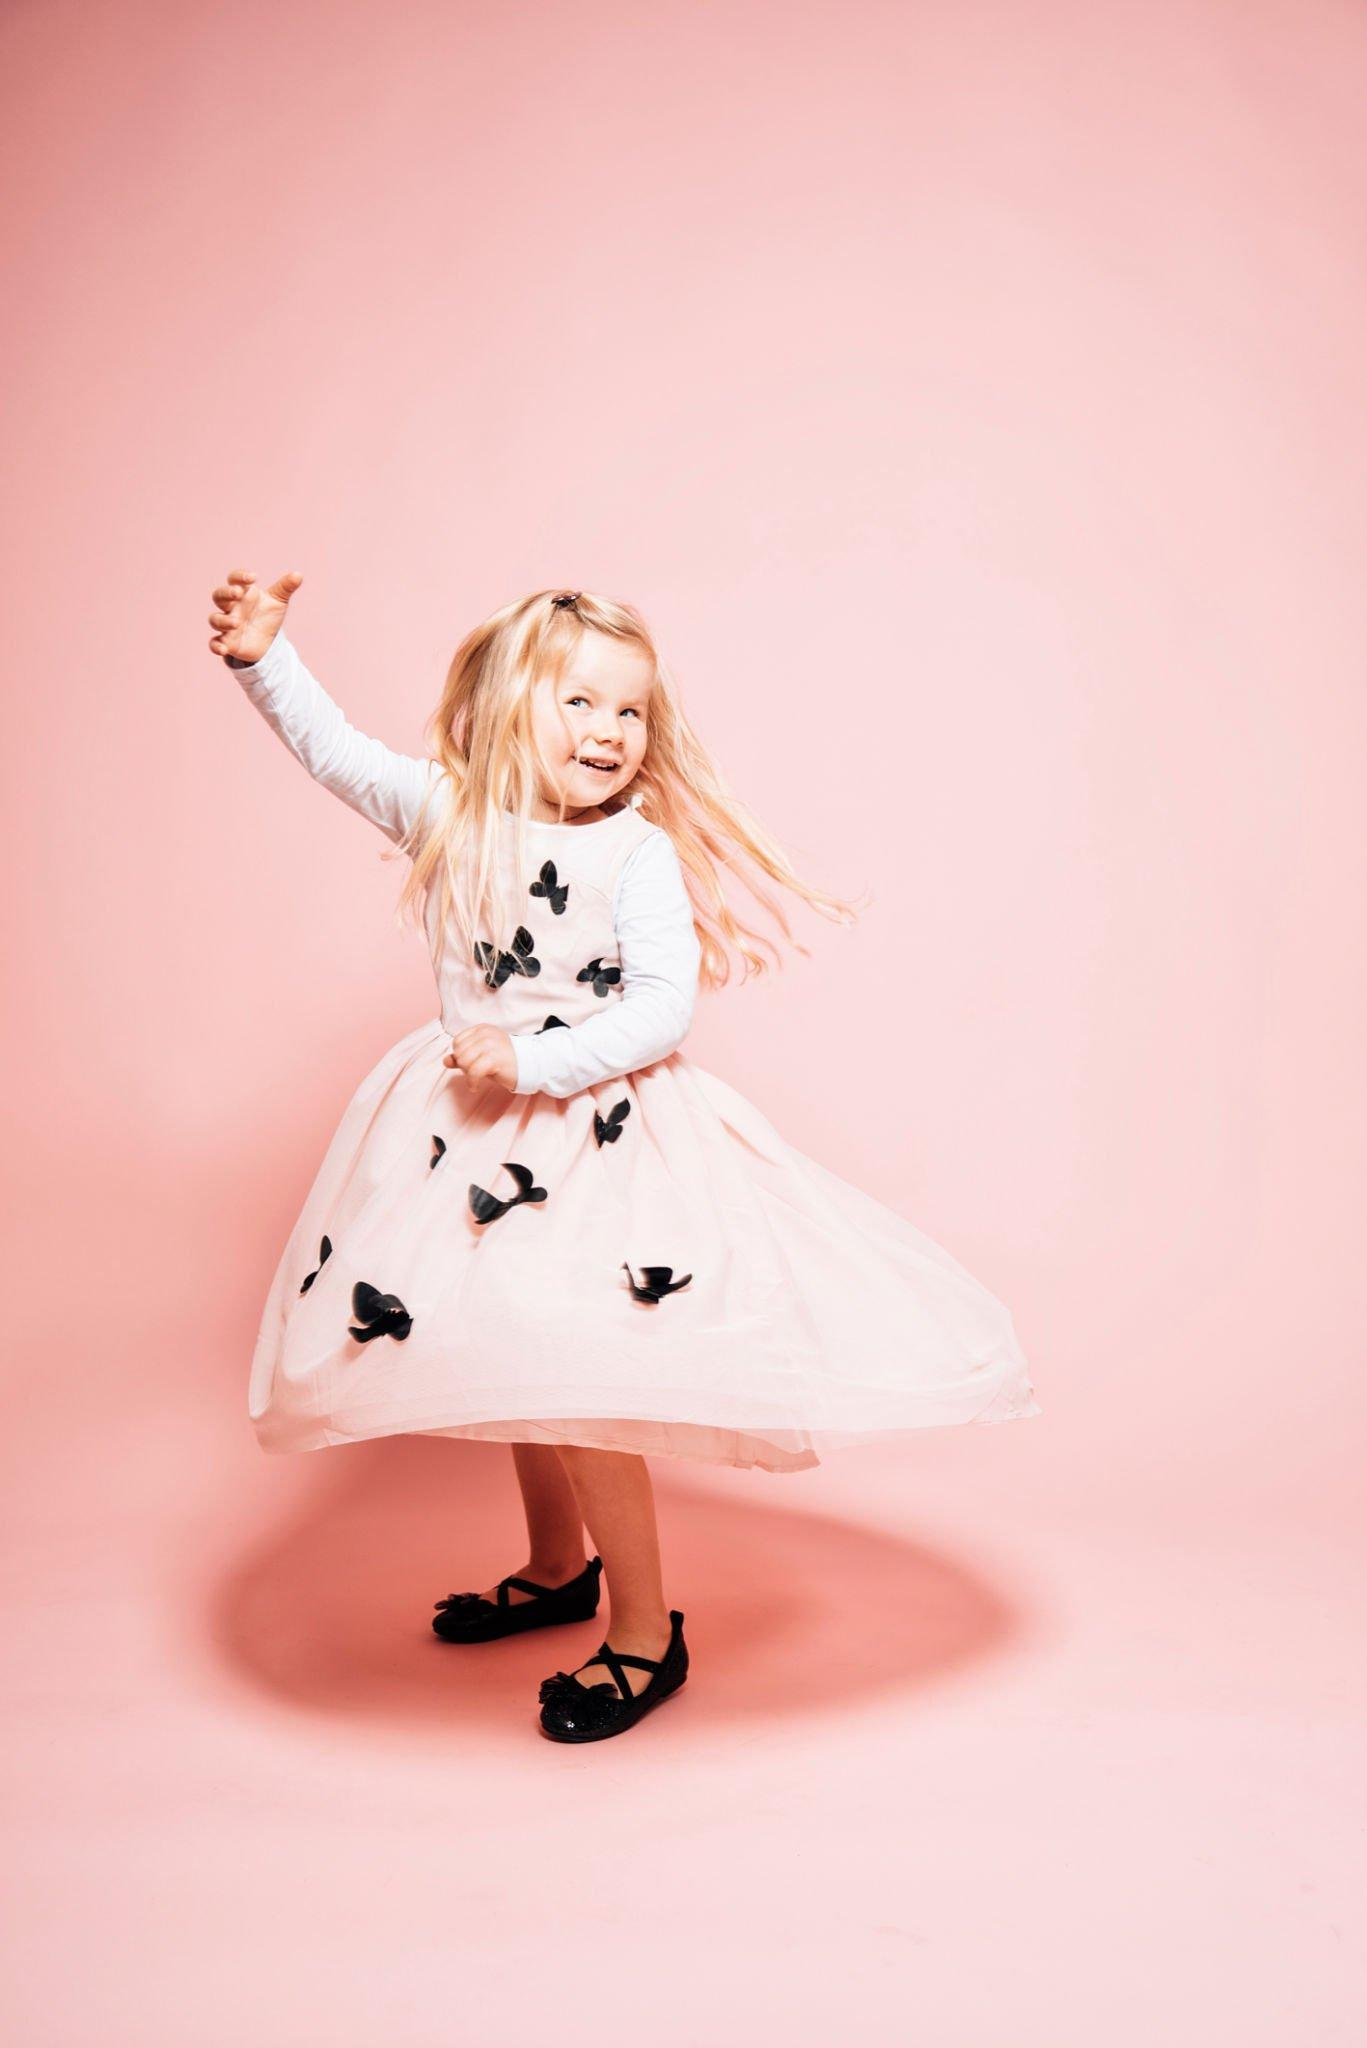Healthy: (526, 622, 682, 849)
